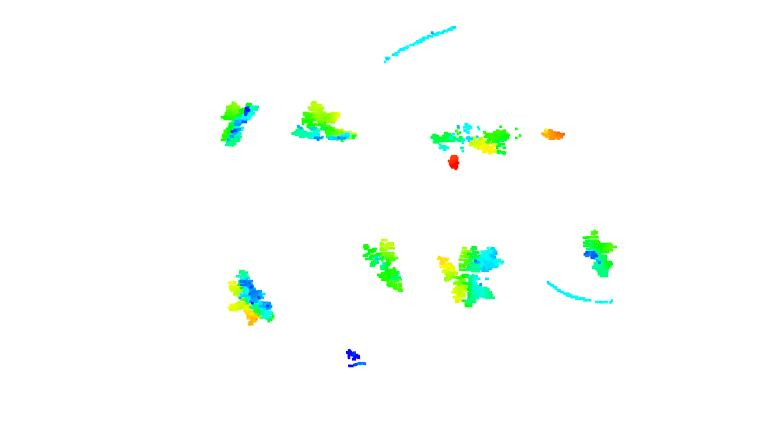chickpea: (433, 240, 508, 313), (470, 120, 569, 160), (287, 99, 362, 147), (222, 266, 274, 328), (360, 236, 408, 293), (577, 228, 621, 283), (217, 95, 258, 149), (427, 124, 468, 177)
